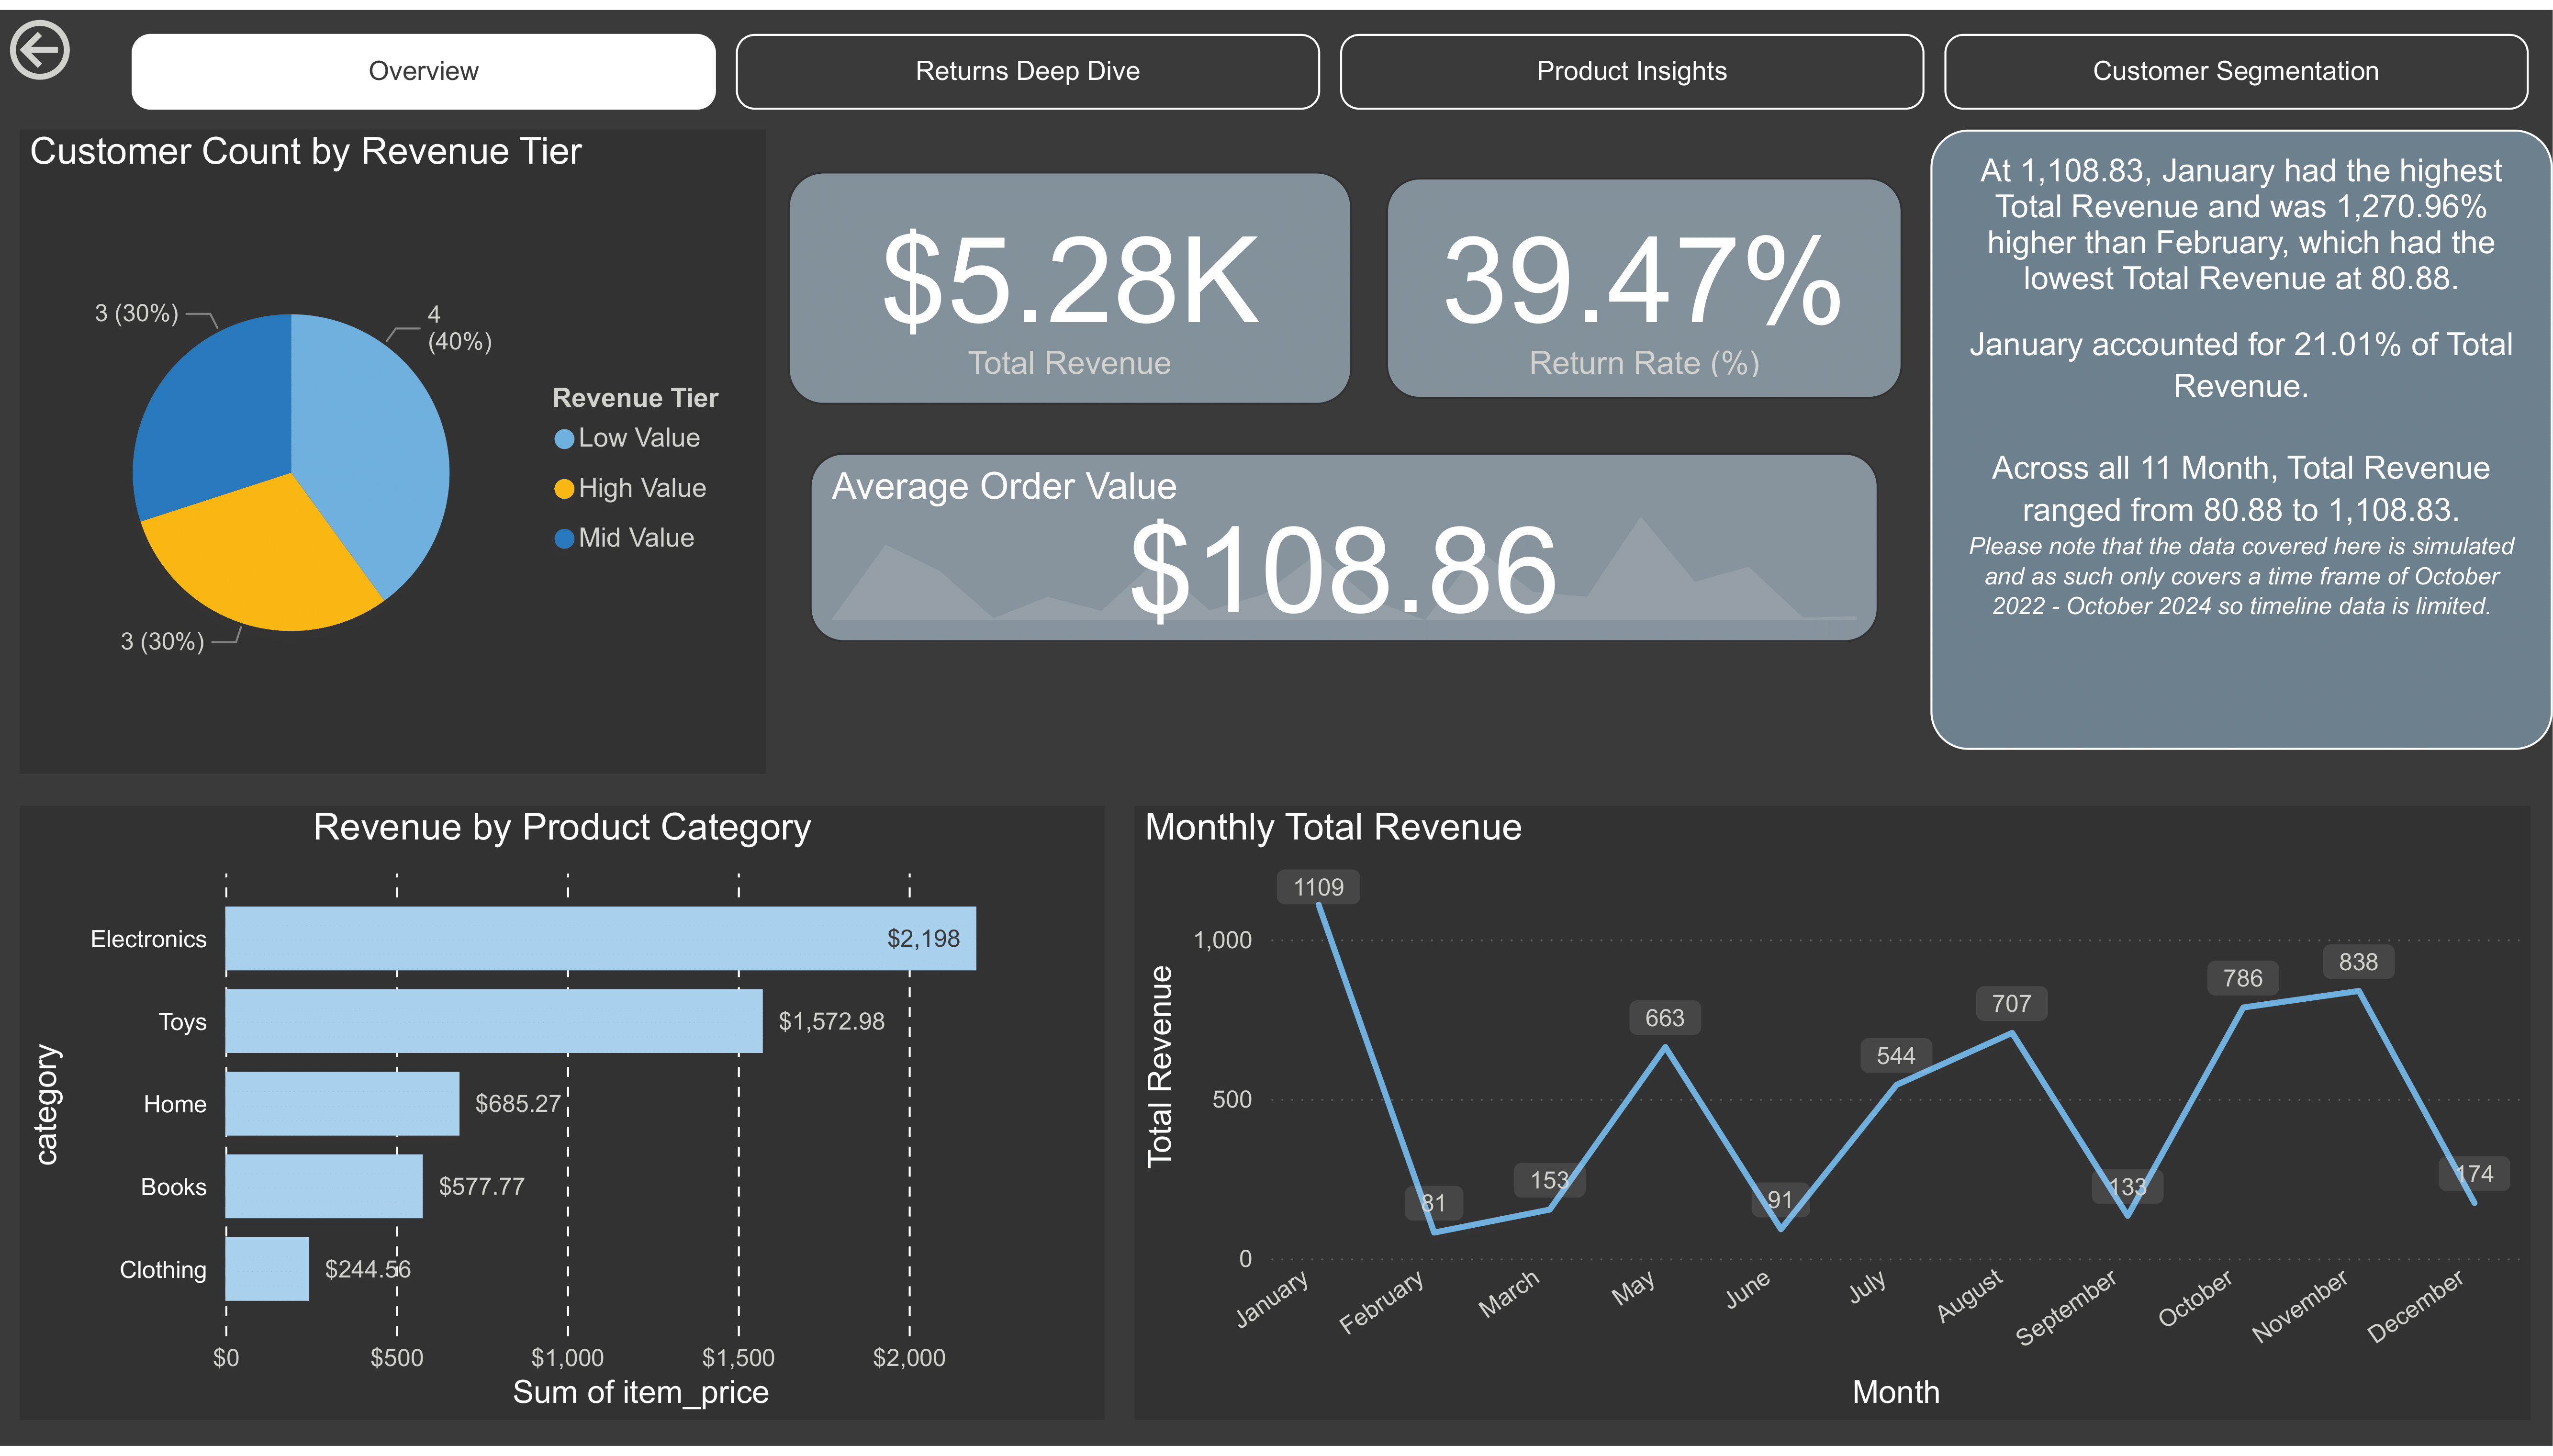

Layout of this report page (visuals, bound fields, positions):
{"tool":"powerbi","page":{"name":"Main_Dash","canvas":[1280,720],"ordinal":0},"visuals":[{"type":"lineChart","title":"Monthly Total Revenue","fields":{"Y":["order_items.Total Revenue"],"Category":["orders.order_date.Variation.Date Hierarchy.Month"]},"box":[0,150,604,224],"z":0},{"type":"card","fields":{"Values":["order_items.Total Revenue"]},"box":[0,0,480,150],"z":1},{"type":"actionButton","box":[0,0,100,40],"z":2},{"type":"clusteredBarChart","title":"Top Customers by Lifetime Value","fields":{"Category":["customers.Full Name"],"Y":["customers.Customer Lifetime Value"]},"box":[820,374,460,346],"z":3},{"type":"card","fields":{"Values":["returns.Return Rate (%)"]},"box":[480,0,420,150],"z":4},{"type":"pieChart","title":"Customer Count by Revenue Tier","fields":{"Category":["customers.Revenue Tier"],"Y":["CountNonNull(customers.customer_id)"]},"box":[0,374.5,357.9,345.3],"z":6},{"type":"barChart","title":"Revenue by Customer Tier","fields":{"Category":["customers.Revenue Tier"],"Y":["Sum(orders.total_amount)"]},"box":[357.9,550.5,462,169.2],"z":7},{"type":"kpi","title":"Average Order Value","fields":{"Indicator":["orders.Average Order Value"],"TrendLine":["orders.order_date"]},"box":[860.8,0,419.2,149.8],"z":8},{"type":"lineChart","title":"Monthly Returns Count","fields":{"Category":["returns.return_date.Variation.Date Hierarchy.Month"],"Y":["CountNonNull(returns.return_id)"]},"box":[604,150,676,224],"z":9},{"type":"barChart","title":"Revenue by Product Category","fields":{"Y":["Sum(order_items.item_price)"],"Category":["products.category"]},"box":[358,374,462,173],"z":10}]}

Visuals, with their boxes in screenshot pixels (x1, y1, x2, y2), scaled from the page's 1280x720 canvas onto the 2553x1456 screenshot:
"Monthly Total Revenue" lineChart: {"left": 0, "top": 303, "right": 1205, "bottom": 756}
card - order_items.Total Revenue: {"left": 0, "top": 0, "right": 957, "bottom": 303}
actionButton: {"left": 0, "top": 0, "right": 200, "bottom": 81}
"Top Customers by Lifetime Value" clusteredBarChart: {"left": 1635, "top": 756, "right": 2553, "bottom": 1456}
card - returns.Return Rate (%): {"left": 957, "top": 0, "right": 1795, "bottom": 303}
"Customer Count by Revenue Tier" pieChart: {"left": 0, "top": 757, "right": 714, "bottom": 1456}
"Revenue by Customer Tier" barChart: {"left": 714, "top": 1113, "right": 1635, "bottom": 1456}
"Average Order Value" kpi: {"left": 1717, "top": 0, "right": 2553, "bottom": 303}
"Monthly Returns Count" lineChart: {"left": 1205, "top": 303, "right": 2553, "bottom": 756}
"Revenue by Product Category" barChart: {"left": 714, "top": 756, "right": 1635, "bottom": 1106}
